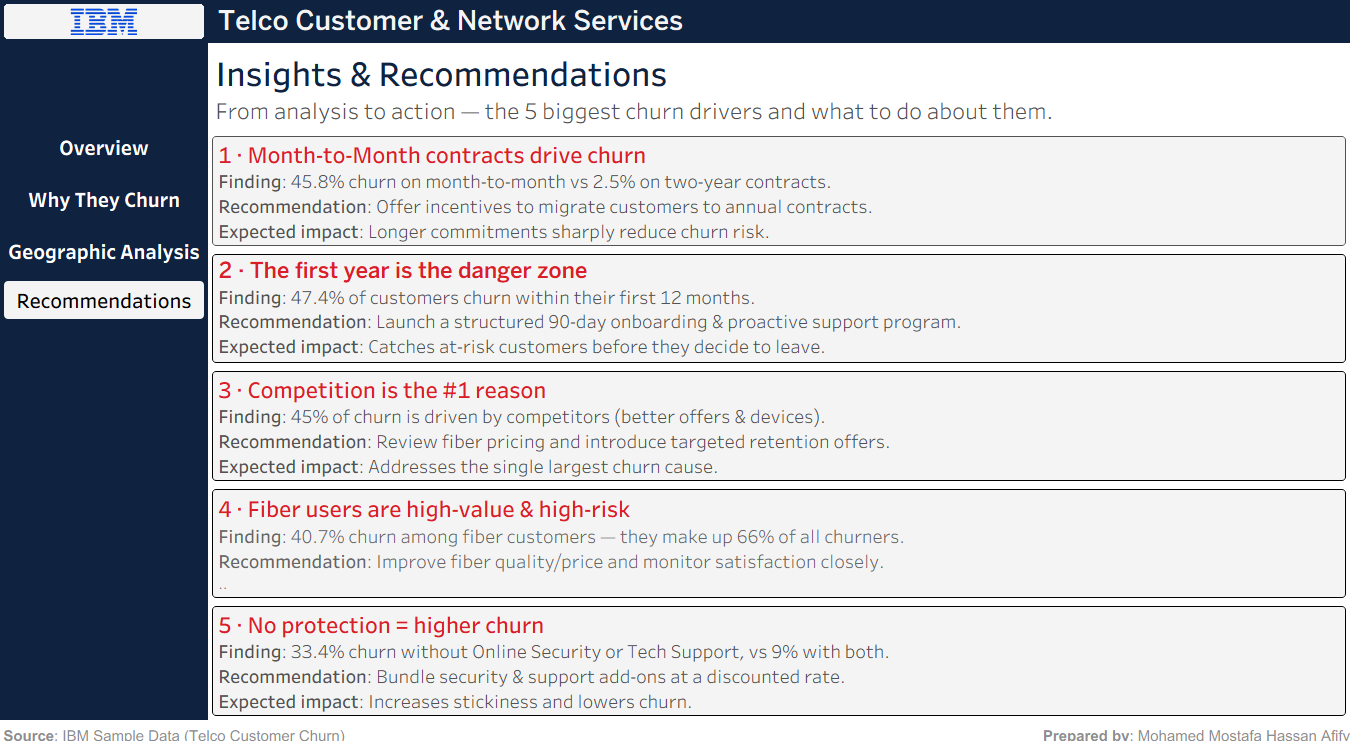

The dashboard page shown, as its layout file describes it:
{"tool":"tableau","page":{"name":"Recommendations","canvas":[1366,768],"ordinal":2},"visuals":[{"type":"image","param":"C:/Users/moham/Downloads/ibm-logo_brandlogos.net_ahkkf.png","box":[8,8,208,43.1]},{"type":"text","box":[216,8,1142,43.1]},{"type":"blank","box":[8,51.1,208,78]},{"type":"text","box":[216,51.1,1142,88.9]},{"type":"dashboard-object","box":[8,129.1,208,52]},{"type":"text","box":[216,140,1142,117.6]},{"type":"dashboard-object","box":[8,181.1,208,52]},{"type":"dashboard-object","box":[8,233.1,208,52]},{"type":"text","box":[216,257.6,1142,117.6]},{"type":"text","box":[8,285.1,208,46]},{"type":"text","box":[216,375.2,1142,117.6]},{"type":"text","box":[216,492.8,1142,117.6]},{"type":"text","box":[216,610.4,1142,117.6]},{"type":"text","box":[8,728,1350,32]}]}

Visuals, with their boxes in screenshot pixels (x1, y1, x2, y2), scaled from the page's 1366x768 canvas onto the 1350x741 screenshot:
image: 8, 8, 213, 49
text: 213, 8, 1342, 49
blank: 8, 49, 213, 125
text: 213, 49, 1342, 135
dashboard-object: 8, 125, 213, 175
text: 213, 135, 1342, 249
dashboard-object: 8, 175, 213, 225
dashboard-object: 8, 225, 213, 275
text: 213, 249, 1342, 362
text: 8, 275, 213, 319
text: 213, 362, 1342, 475
text: 213, 475, 1342, 589
text: 213, 589, 1342, 702
text: 8, 702, 1342, 733
